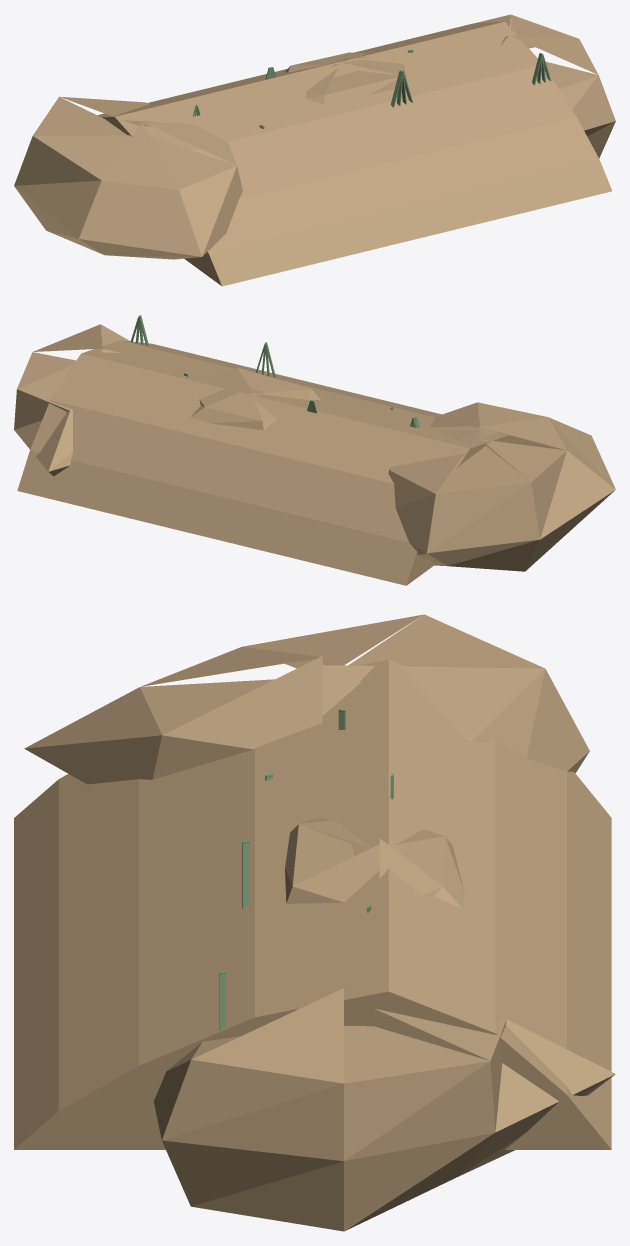
File: wipe-day-survival-island-sand-dune-bank-1a2dc03a__27437.glb
3 views of the same model, one above another, from view 1: azimuth 30°, elevation 25°; view 2: azimuth 150°, elevation 25°; view 3: azimuth 270°, elevation 25° (orthographic). The views are drawn at different scales.
Parts seen in each view (by area): view 1: sand-dune-bank; view 2: sand-dune-bank; view 3: sand-dune-bank.
Part boxes in pixels (x1,y1,x2,y2): sand-dune-bank: (14, 14, 615, 286); sand-dune-bank: (14, 315, 615, 585); sand-dune-bank: (14, 614, 615, 1231).
Size of the model in its own units: 6.22 by 1.6 by 3.37.
